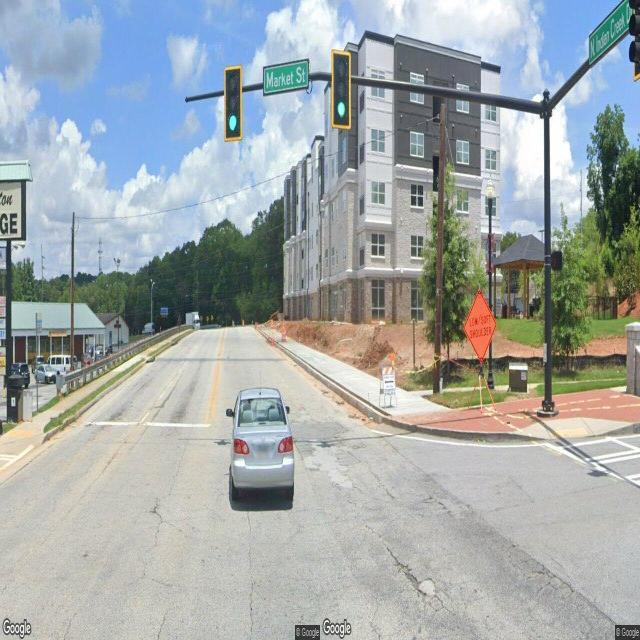trash_can: (6, 374, 24, 422)
